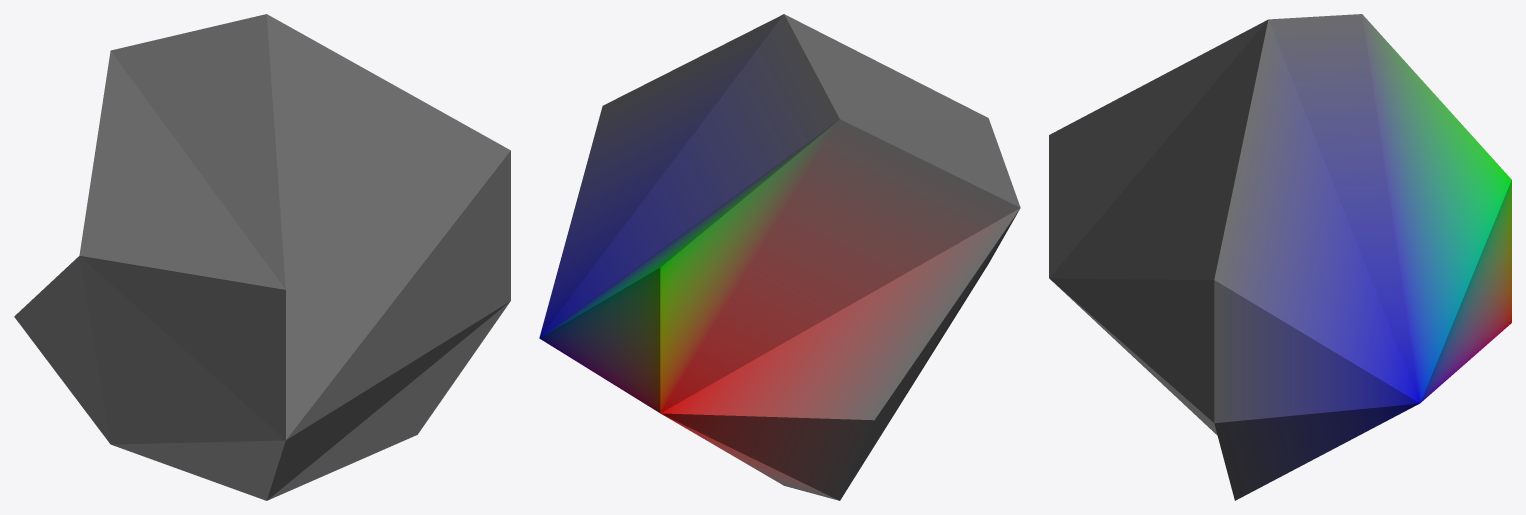
Rendered from decimating_conquest_4_9.obj.
3 renders of one model, left to right at view 1: azimuth 30°, elevation 25°; view 2: azimuth 150°, elevation 25°; view 3: azimuth 270°, elevation 25°, orthographic. The views are drawn at different scales.
Bounding box in the file's own units: 1.85 × 2 × 1.81.
